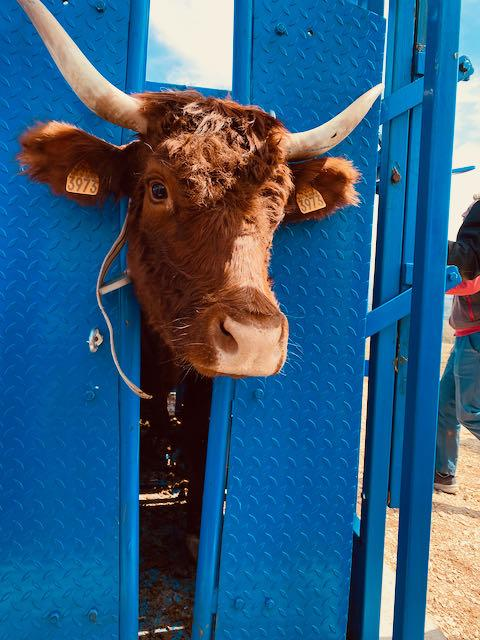muzzles: (192, 302, 292, 382)
